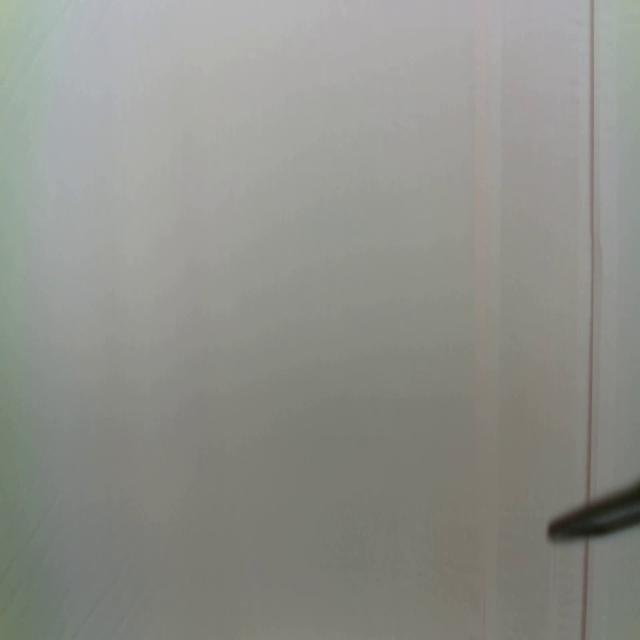crease: (472, 1, 506, 640), (584, 1, 601, 498), (580, 536, 592, 640)
